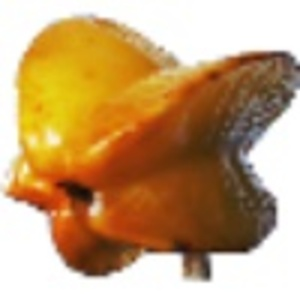carambola: (1, 15, 300, 283)
